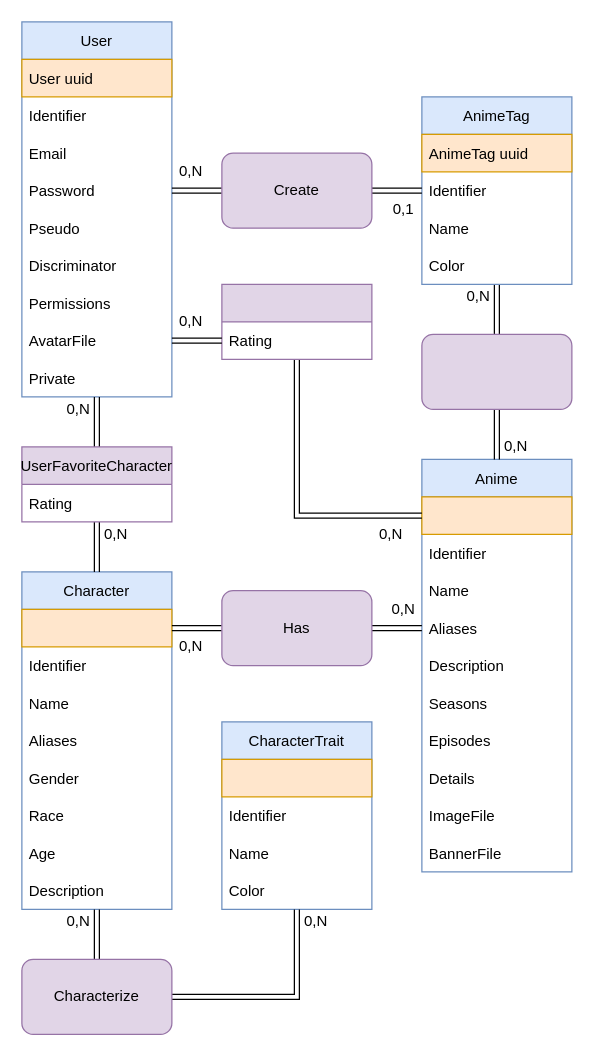
This 595x1056 diagram has some shape labels left out. The box of each missing label's shape, as (x1, y1, x2, y2) in pixels:
Anime uuid: (421, 496, 572, 534)
Categorize: (421, 333, 572, 409)
Character uuid: (21, 608, 172, 647)
CharacterTrait uuid: (221, 758, 372, 797)
UserFavoriteAnime: (221, 283, 372, 359)
